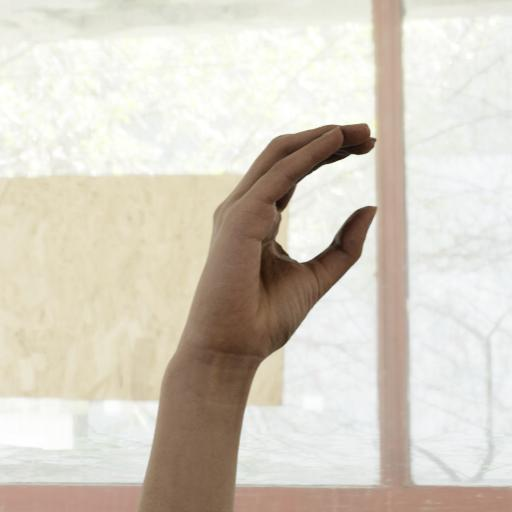C: (126, 107, 406, 440)
